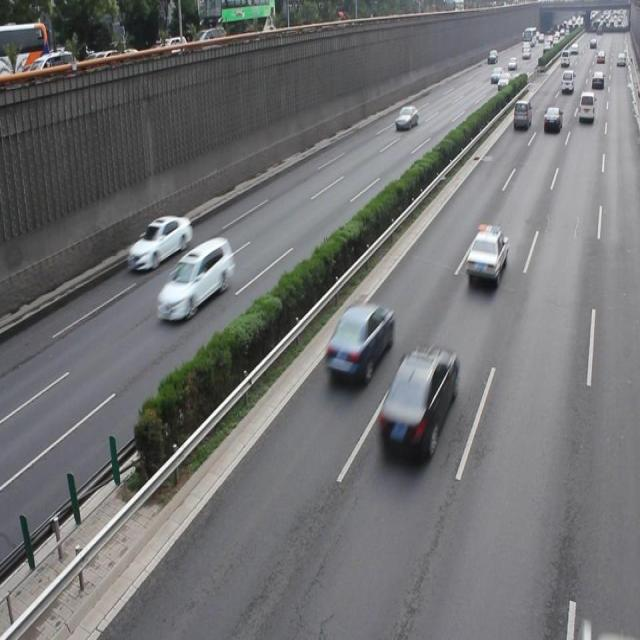car: (375, 343, 457, 458), (155, 237, 234, 321), (322, 301, 393, 385), (127, 213, 190, 268), (464, 227, 507, 289)
